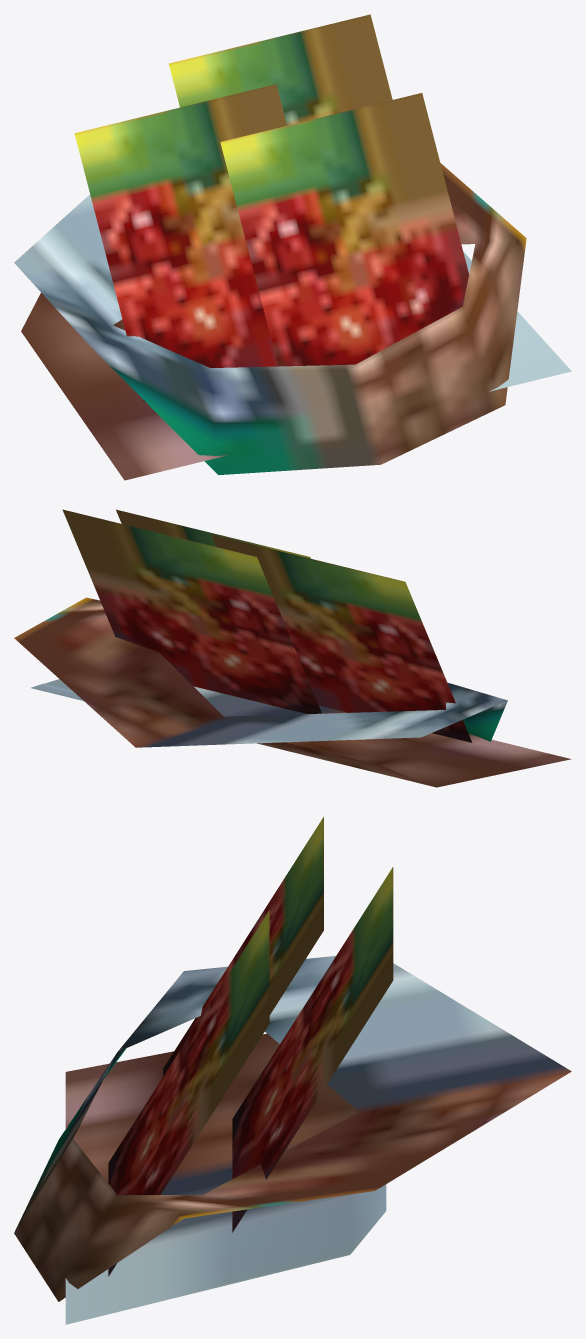
File: fg_lychee_pile_out.dae
3 renders of one model, top to bottom at view 1: azimuth 30°, elevation 25°; view 2: azimuth 150°, elevation 25°; view 3: azimuth 270°, elevation 25°, orthographic. The views are drawn at different scales.
Parts seen in each view (by area): view 1: fg_lychee_pile_out; view 2: fg_lychee_pile_out; view 3: fg_lychee_pile_out.
Part boxes in pixels (x1=…): fg_lychee_pile_out: x1=14, y1=14, x2=571, y2=480; fg_lychee_pile_out: x1=14, y1=509, x2=571, y2=787; fg_lychee_pile_out: x1=14, y1=816, x2=571, y2=1324.
Size of the model in its own units: 24.45 by 15.12 by 22.51.
1 material, 1 textured.
